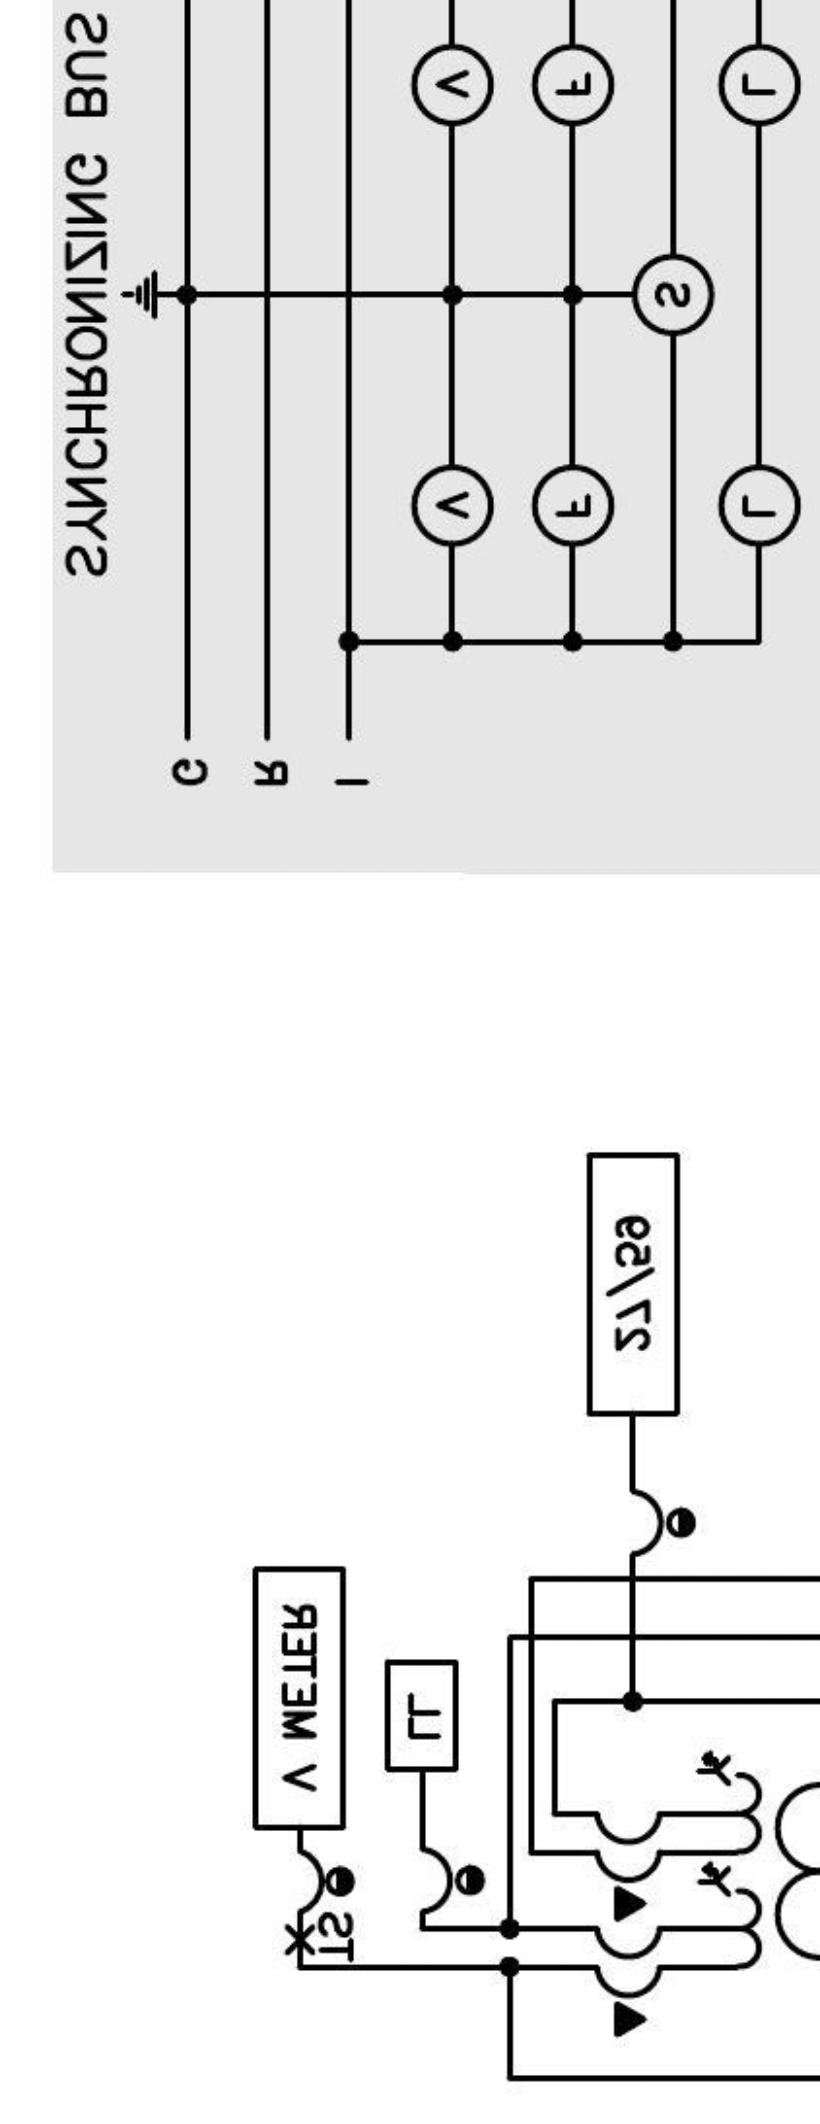LL: (382, 1658, 461, 1773)
v_m_digital: (251, 1565, 347, 1833)
